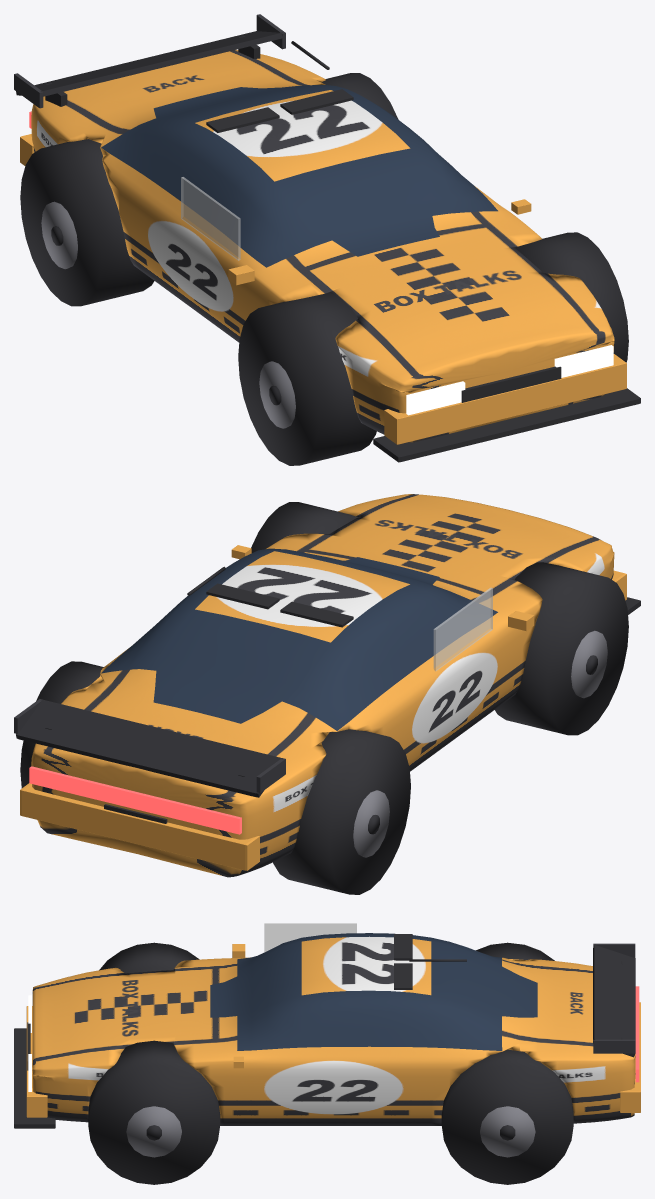
Rendered from car_4.glb.
3 renders of one model, top to bottom at view 1: azimuth 30°, elevation 25°; view 2: azimuth 150°, elevation 25°; view 3: azimuth 270°, elevation 25°, orthographic. The views are drawn at different scales.
Visible parts, largest first — view 1: body, cutter, cutter.002, bumperF, cutter.001, splitter, spoiler, net, dish.002, dish, grille, headlight (+4 smaller); view 2: body, cutter, cutter.002, spoiler, bumperR, tail, net, cutter.001, cutter.003, dish, dish.002, flap.001 (+2 smaller); view 3: body, cutter.001, cutter.003, spoiler, dish.003, dish.001, cutter, splitter, net, cutter.002, bumperF, bumperR (+4 smaller).
Boxes of the visible parts, bbox=[...] form: body: bbox=[31, 50, 614, 442]; cutter: bbox=[238, 292, 376, 465]; cutter.002: bbox=[20, 139, 154, 306]; bumperF: bbox=[384, 354, 626, 444]; cutter.001: bbox=[515, 232, 628, 362]; splitter: bbox=[373, 388, 640, 462]; spoiler: bbox=[16, 31, 283, 96]; net: bbox=[181, 177, 240, 260]; dish.002: bbox=[41, 201, 77, 269]; dish: bbox=[259, 361, 295, 428]; grille: bbox=[461, 366, 561, 402]; headlight: bbox=[406, 381, 465, 415]; body: bbox=[31, 494, 614, 877]; cutter: bbox=[495, 562, 628, 735]; cutter.002: bbox=[273, 729, 410, 894]; spoiler: bbox=[16, 699, 282, 797]; bumperR: bbox=[20, 783, 259, 870]; tail: bbox=[29, 766, 241, 834]; net: bbox=[433, 587, 492, 671]; cutter.001: bbox=[251, 502, 357, 552]; cutter.003: bbox=[20, 661, 103, 788]; dish: bbox=[571, 630, 607, 698]; dish.002: bbox=[353, 790, 389, 857]; flap.001: bbox=[206, 583, 279, 609]; body: bbox=[32, 933, 635, 1125]; cutter.001: bbox=[88, 1040, 220, 1184]; cutter.003: bbox=[441, 1049, 573, 1184]; spoiler: bbox=[593, 944, 635, 1057]; dish.003: bbox=[480, 1106, 535, 1157]; dish.001: bbox=[126, 1106, 181, 1157]; cutter: bbox=[99, 942, 199, 973]; splitter: bbox=[14, 1028, 55, 1128]; net: bbox=[264, 923, 356, 952]; cutter.002: bbox=[476, 942, 554, 960]; bumperF: bbox=[26, 1006, 47, 1117]; bumperR: bbox=[620, 1002, 640, 1112].
Size of the model in its own units: 2.58 by 1.76 by 5.41.
Materials: 11 (1 with a texture image).
